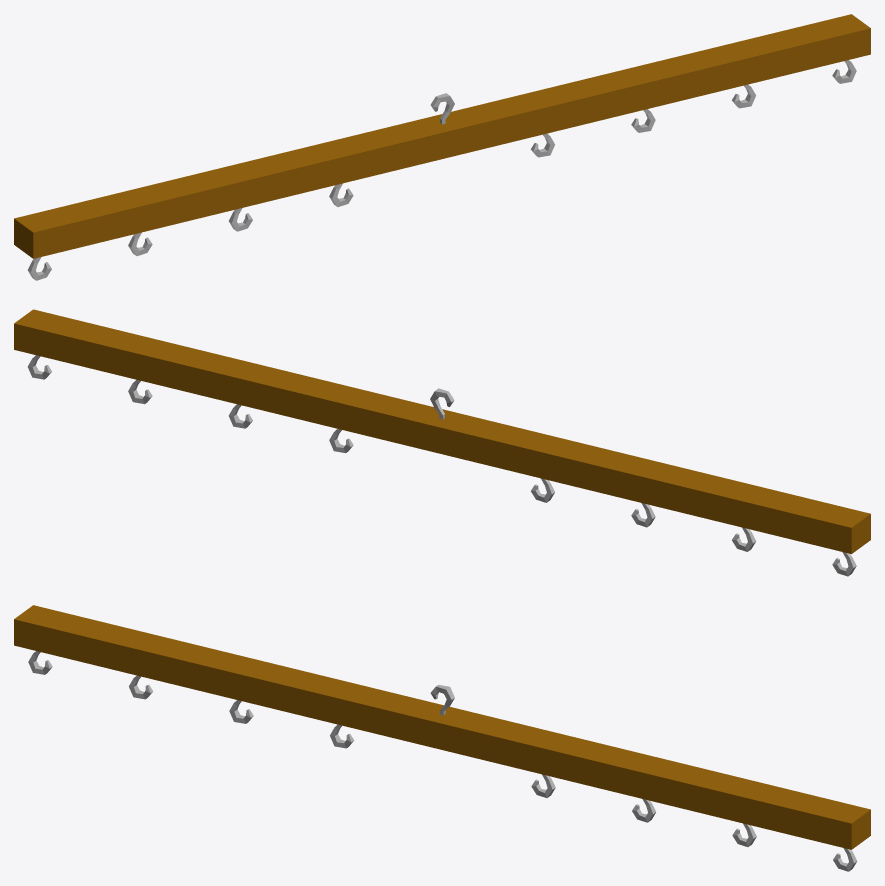
The model's file is EixoMadeira.fbx.
The picture shows the model from 3 angles, top to bottom: view 1: azimuth 30°, elevation 25°; view 2: azimuth 150°, elevation 25°; view 3: azimuth 330°, elevation 25°; orthographic projection.
Visible parts, largest first — view 1: EixoMadeira; view 2: EixoMadeira; view 3: EixoMadeira.
Boxes of the visible parts, left/top/right/bottom form: EixoMadeira: left=14, top=14, right=870, bottom=280; EixoMadeira: left=14, top=309, right=870, bottom=576; EixoMadeira: left=14, top=605, right=870, bottom=871.
Size of the model in its own units: 10000 by 961 by 400.
